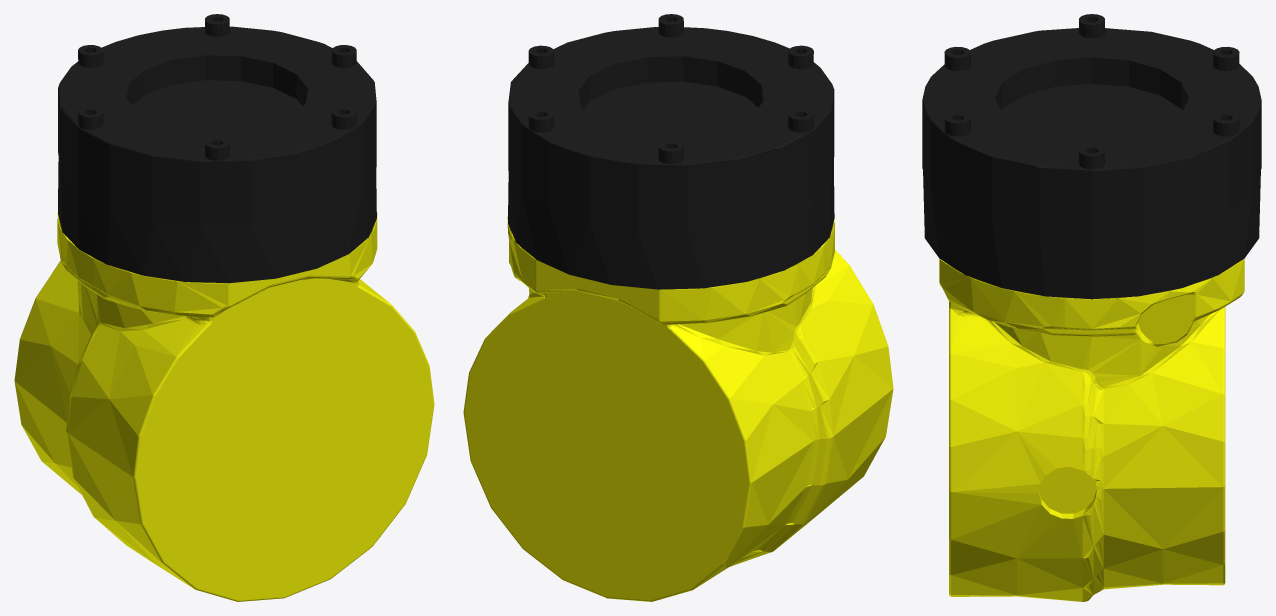
3 renders of one model, left to right at view 1: azimuth 30°, elevation 25°; view 2: azimuth 150°, elevation 25°; view 3: azimuth 270°, elevation 25°, orthographic. The views are drawn at different scales.
Visible parts, largest first — view 1: node; view 2: node; view 3: node.
Part boxes in pixels (x1,y1,x2,y2): node: (14, 14, 434, 601); node: (463, 14, 893, 601); node: (922, 14, 1261, 601).
Bounding box in the file's own units: 77.55 × 114 × 70.
